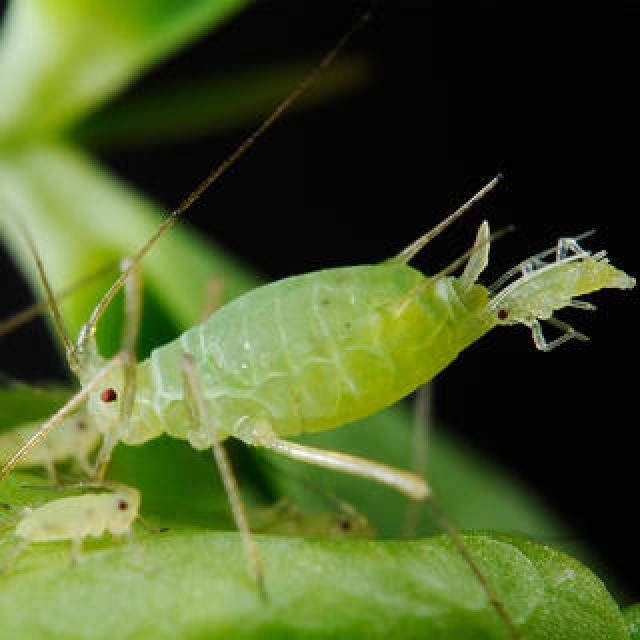Aphids: (74, 238, 483, 461), (486, 216, 640, 368), (5, 481, 153, 560)
